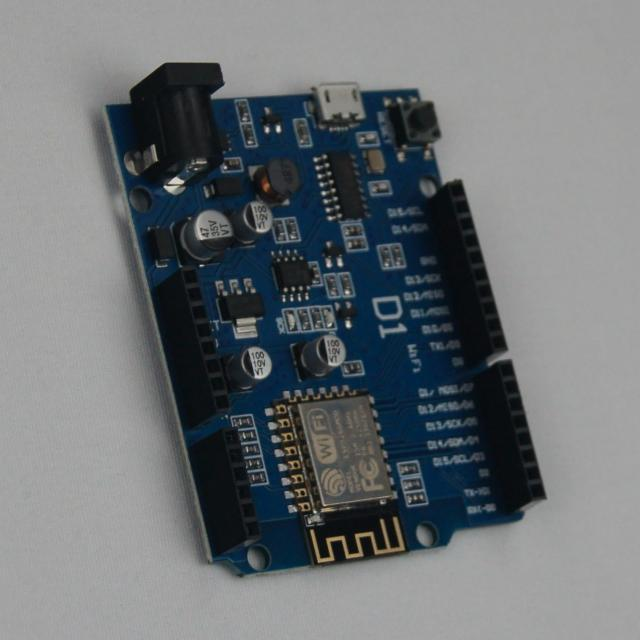Arduino Uno WiFi Shield: (106, 64, 545, 576)
